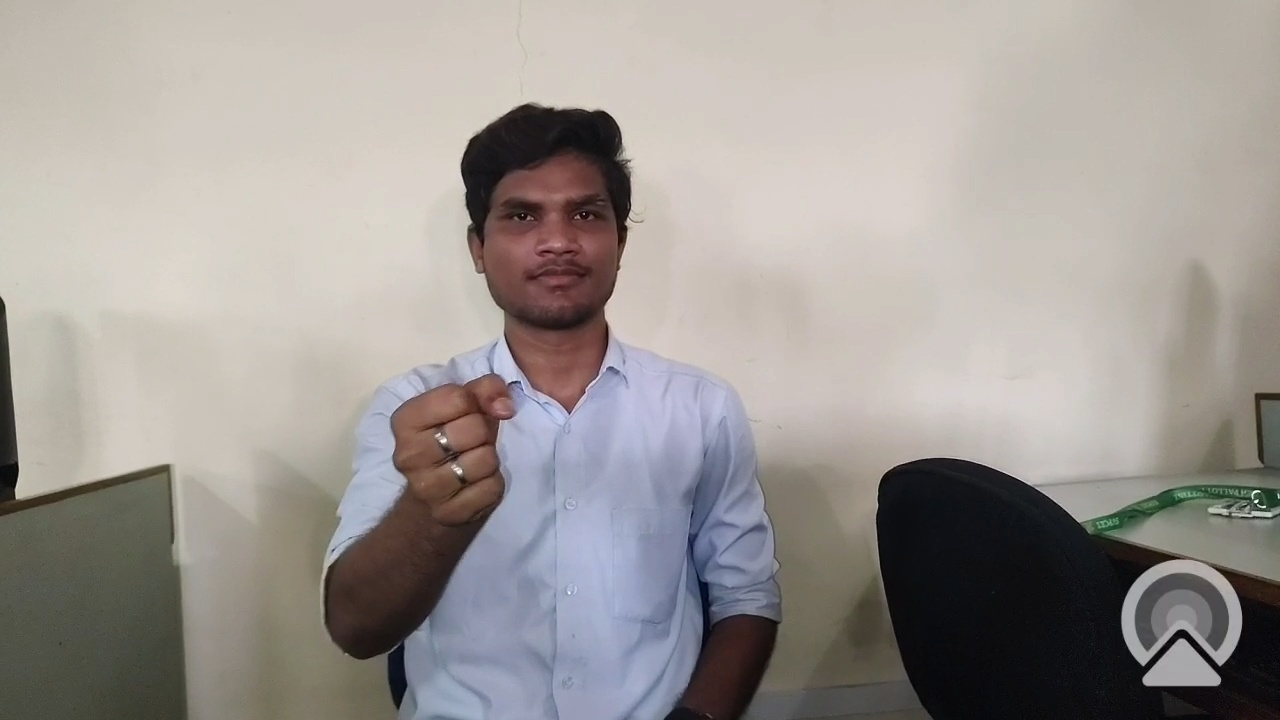Yes: (377, 344, 529, 566)
